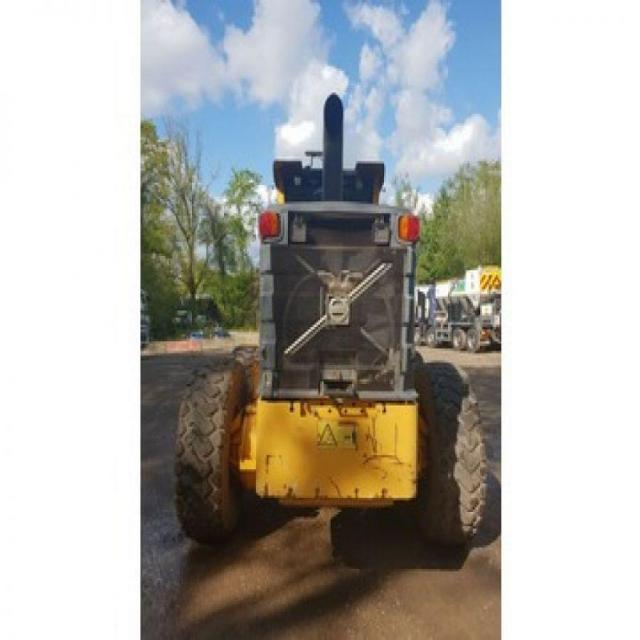Grader: (175, 88, 492, 555)
